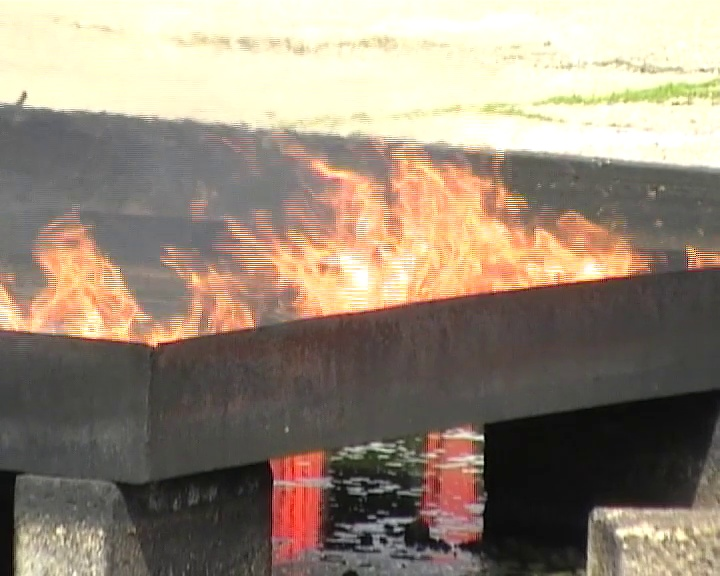fire: (169, 147, 634, 340), (1, 216, 158, 345)
